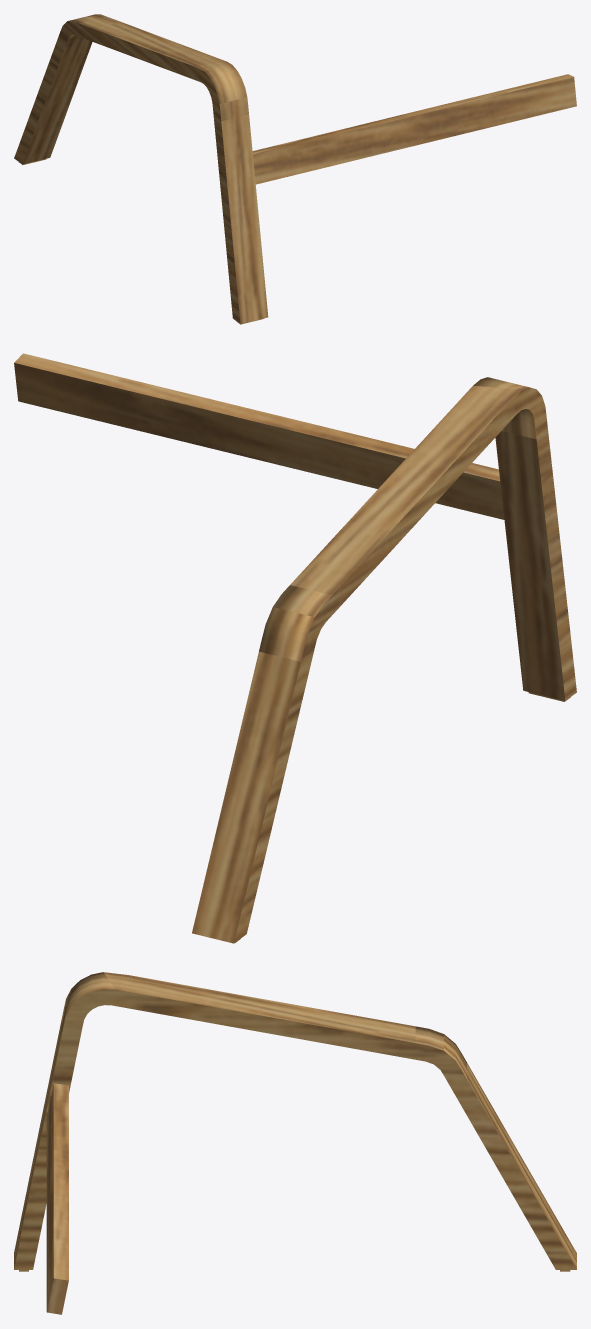
The model's file is conjoinedPiece1.dae.
The picture shows the model from 3 angles, top to bottom: view 1: azimuth 30°, elevation 25°; view 2: azimuth 150°, elevation 25°; view 3: azimuth 270°, elevation 25°; orthographic projection. The views are drawn at different scales.
Visible parts, largest first — view 1: _0233532_NOLMYRA003; view 2: _0233532_NOLMYRA003; view 3: _0233532_NOLMYRA003.
Boxes of the visible parts, bbox=[...] form: _0233532_NOLMYRA003: bbox=[14, 14, 576, 324]; _0233532_NOLMYRA003: bbox=[14, 353, 576, 943]; _0233532_NOLMYRA003: bbox=[14, 972, 576, 1314].
Size of the model in its own units: 1.02 by 1.14 by 0.6363.
1 material, 1 textured.
